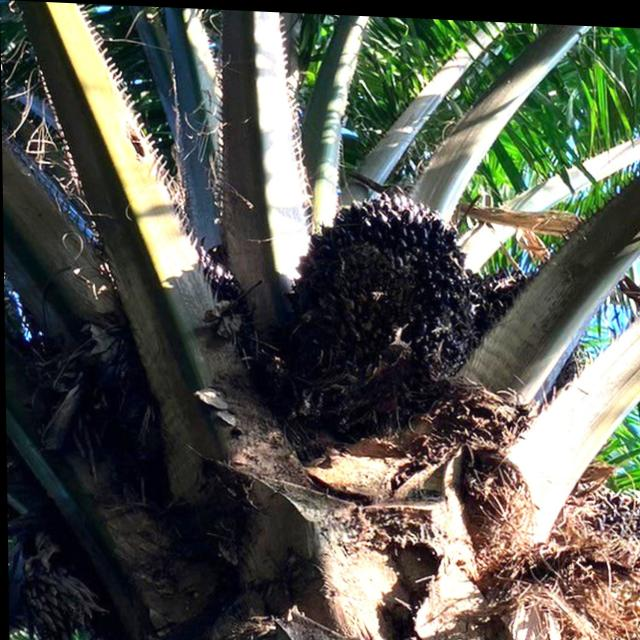almost: (269, 172, 496, 470)
